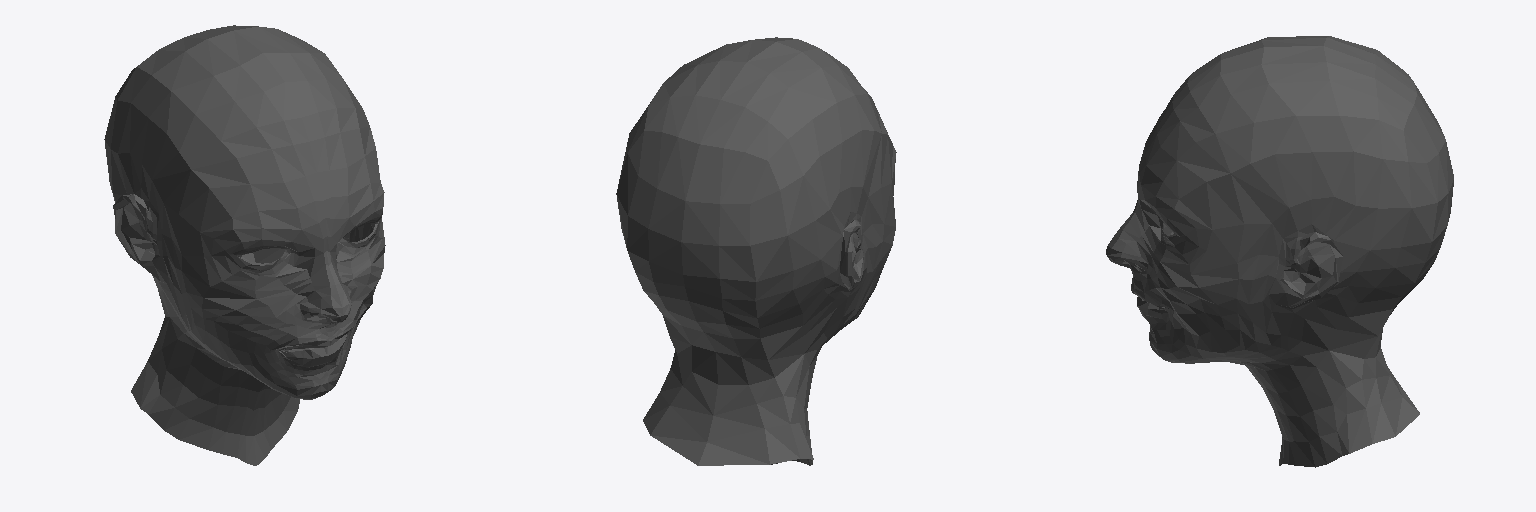
Rendered from SmileLeft01.obj.
3 views of the same model, side by side, from view 1: azimuth 30°, elevation 25°; view 2: azimuth 150°, elevation 25°; view 3: azimuth 270°, elevation 25° (orthographic).
Parts seen in each view (by area): view 1: default; view 2: default; view 3: default.
Part boxes in pixels (x1,y1,x2,y2): default: (104,25,385,465); default: (616,37,896,465); default: (1106,36,1453,467).
Bounding box in the file's own units: 6.99 × 12.46 × 9.39.